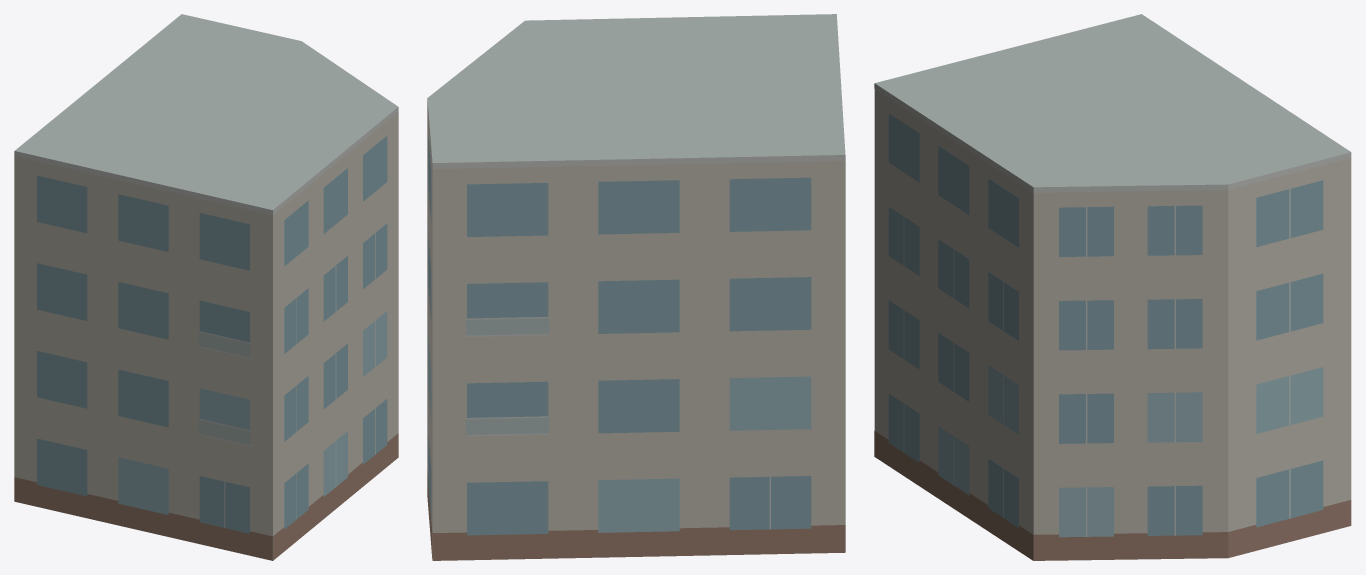
File: survey-upis-33045848.glb
3 views of the same model, side by side, from view 1: azimuth 30°, elevation 25°; view 2: azimuth 150°, elevation 25°; view 3: azimuth 270°, elevation 25° (orthographic). The views are drawn at different scales.
Parts seen in each view (by area): view 1: survey-upis-33045848.tmp; view 2: survey-upis-33045848.tmp; view 3: survey-upis-33045848.tmp.
Boxes of the visible parts, box(x1,y1,x2,y2) form: survey-upis-33045848.tmp: box(14, 14, 398, 560); survey-upis-33045848.tmp: box(427, 14, 845, 560); survey-upis-33045848.tmp: box(874, 14, 1351, 560).
Size of the model in its own units: 16.32 by 16.4 by 18.98.
